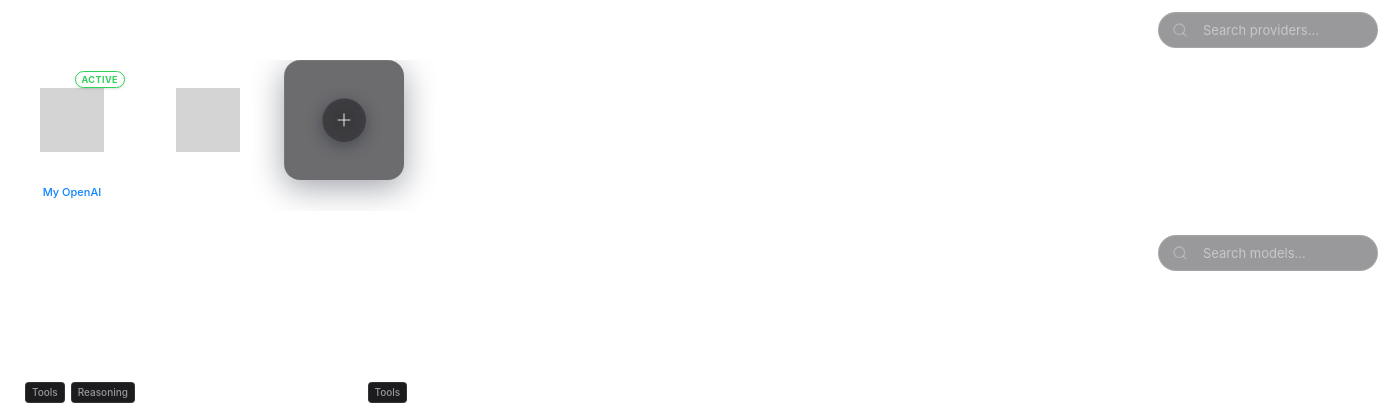
Scenario: ModelTab - Integration Tests › Search filtering › should filter providers by search query
The width and height of the screenshot is (1390, 420).
Expected: the text "My OpenAI" is shown, [43, 186, 101, 200]
// Type in provider search
Type "OpenAI" into the field with placeholder "Search providers..." at (1268, 30), box [1158, 12, 1378, 48]
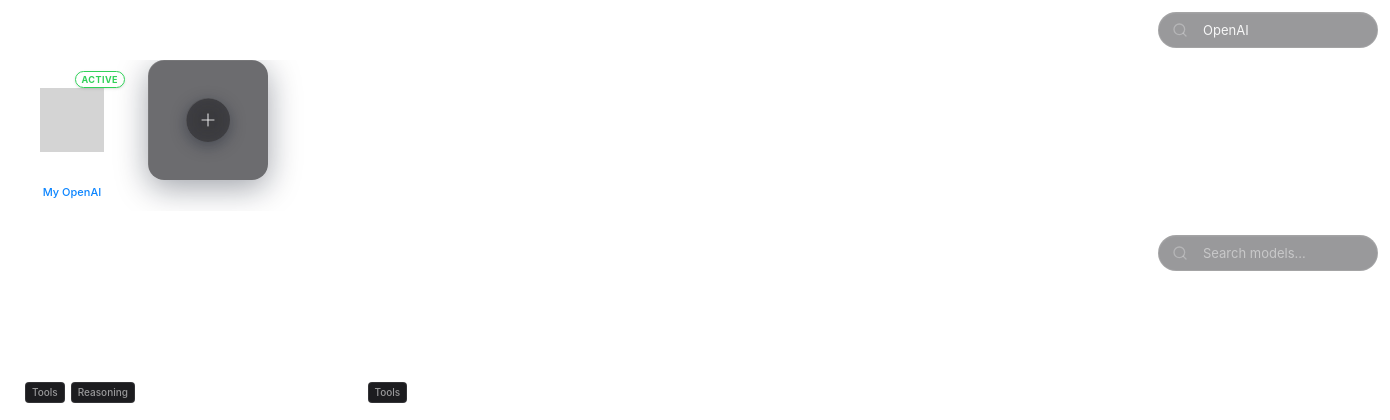
Expected: the text "My OpenAI" is shown, [43, 186, 101, 200]
Expected: the text "My Anthropic" is gone
